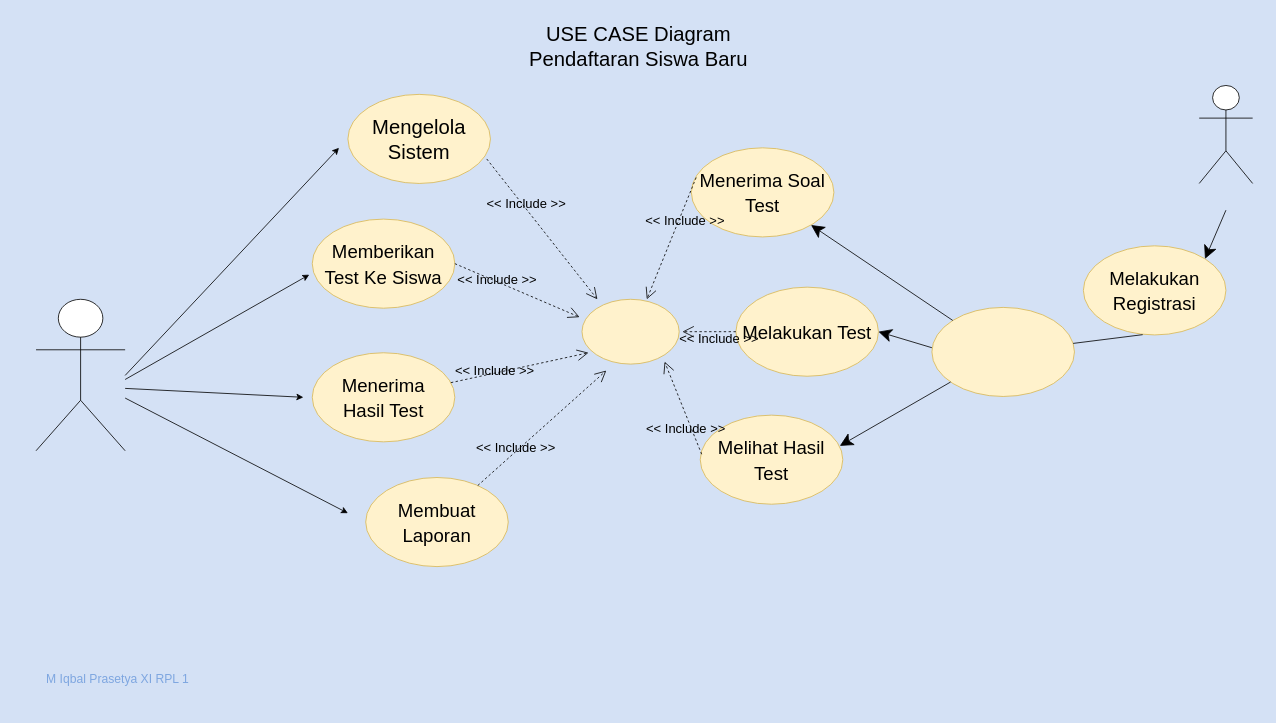
Some shapes in this 1276 by 723 pixel diagram are drawn without their labels. The box of each missing label's shape, as (x1, y1, x2, y2) in pixels:
ADMIN: (35, 298, 125, 451)
Calon Siswa: (1198, 85, 1253, 183)
Input Data Pribadi: (931, 307, 1074, 396)
LOGIN: (581, 298, 679, 364)
